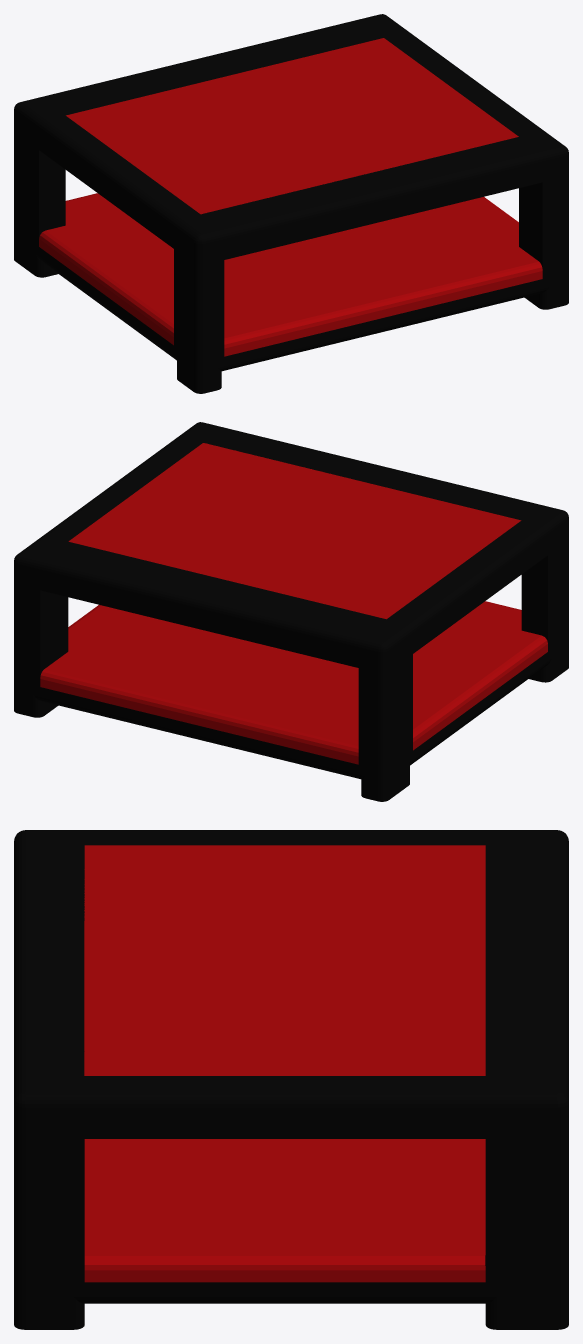
The model's file is CoffeeTable.fbx.
3 renders of one model, top to bottom at view 1: azimuth 30°, elevation 25°; view 2: azimuth 150°, elevation 25°; view 3: azimuth 270°, elevation 25°, orthographic. The views are drawn at different scales.
Parts seen in each view (by area): view 1: Cube; view 2: Cube; view 3: Cube.
Part boxes in pixels (x1,y1,x2,y2): Cube: [14, 14, 568, 393]; Cube: [14, 422, 568, 801]; Cube: [14, 830, 568, 1329].
Size of the model in its own units: 1386 by 555 by 1200.
